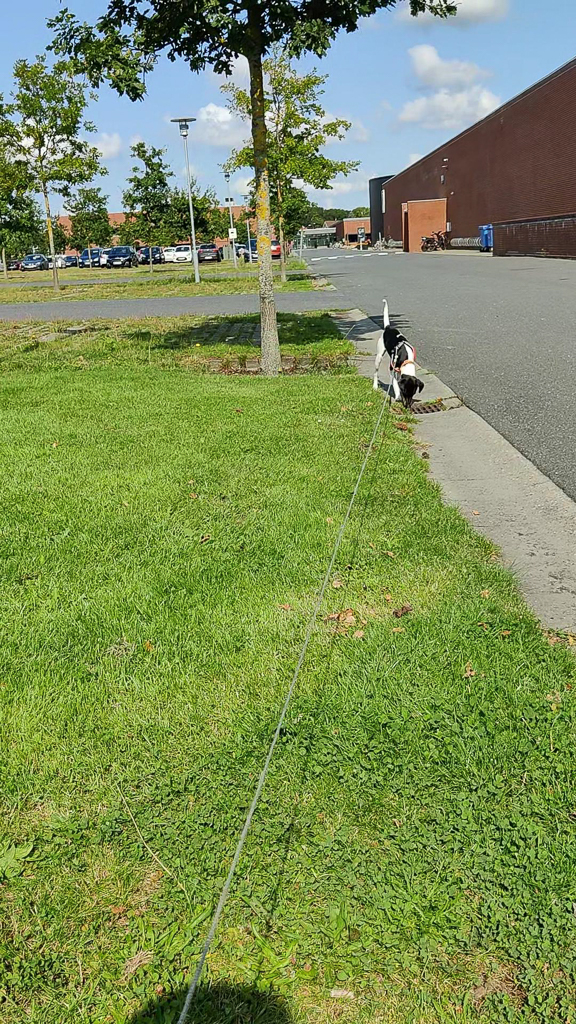Dog: (362, 294, 435, 413)
